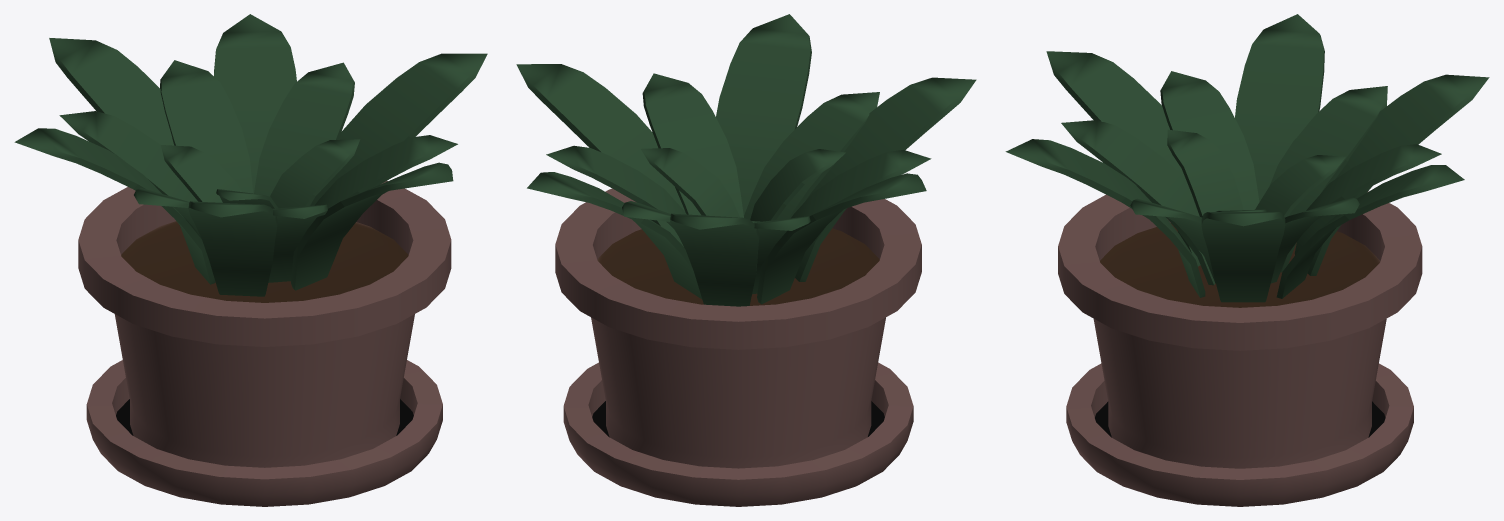
The model's file is flower_everything_v1.fbx.
3 views of the same model, side by side, from view 1: azimuth 30°, elevation 25°; view 2: azimuth 150°, elevation 25°; view 3: azimuth 270°, elevation 25° (orthographic). The views are drawn at different scales.
Visible parts, largest first — view 1: Pot, FlowerBowl, Plane.007, Plane.009, Plane.004, Plane.005, Plane.008, Plane.010, Plane.011, Plane.012, Plane.001, Plane.006 (+5 smaller); view 2: Pot, FlowerBowl, Plane.011, Plane.007, Plane.010, Plane.006, Plane.008, Plane.002, Plane.012, Plane.009, Plane.004, Plane.013 (+4 smaller); view 3: Pot, FlowerBowl, Plane.012, Plane.010, Plane.008, Plane.007, Plane.002, Plane.003, Plane.001, Plane.011, Plane.009, Plane.015 (+4 smaller).
Part boxes in pixels (x1,y1,x2,y2): Pot: [78, 181, 451, 467]; FlowerBowl: [86, 360, 442, 506]; Plane.007: [311, 53, 487, 205]; Plane.009: [214, 14, 296, 193]; Plane.004: [254, 62, 354, 205]; Plane.005: [160, 60, 253, 193]; Plane.008: [49, 38, 174, 145]; Plane.010: [188, 201, 277, 296]; Plane.011: [291, 162, 453, 290]; Plane.012: [14, 128, 215, 284]; Plane.001: [59, 111, 201, 239]; Plane.006: [314, 135, 457, 208]; Pot: [555, 188, 921, 468]; FlowerBowl: [563, 362, 913, 506]; Plane.011: [716, 14, 811, 215]; Plane.007: [516, 64, 685, 246]; Plane.010: [795, 77, 976, 281]; Plane.006: [642, 73, 743, 217]; Plane.008: [670, 213, 759, 306]; Plane.002: [744, 92, 879, 219]; Plane.012: [757, 173, 926, 304]; Plane.009: [527, 172, 702, 299]; Plane.004: [546, 145, 686, 228]; Plane.013: [641, 148, 739, 217]; Pot: [1058, 191, 1422, 468]; FlowerBowl: [1066, 363, 1413, 506]; Plane.012: [1235, 14, 1324, 201]; Plane.010: [1046, 51, 1200, 266]; Plane.008: [1294, 74, 1489, 275]; Plane.007: [1201, 212, 1285, 302]; Plane.002: [1061, 120, 1215, 285]; Plane.003: [1160, 71, 1259, 209]; Plane.001: [1270, 86, 1387, 272]; Plane.011: [1005, 139, 1205, 297]; Plane.009: [1276, 165, 1464, 298]; Plane.015: [1167, 129, 1243, 217].
Size of the model in its own units: 152 by 106 by 146.
